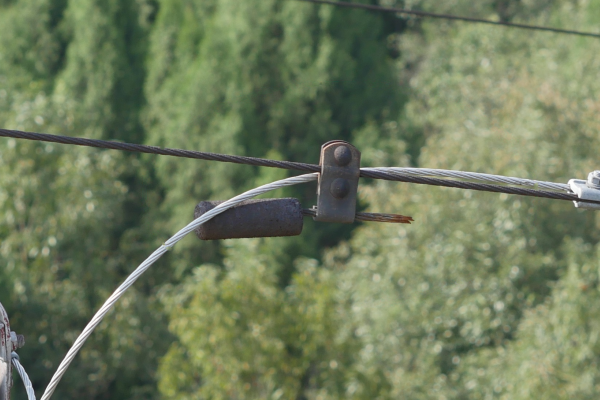damper_defect: (190, 132, 418, 245)
